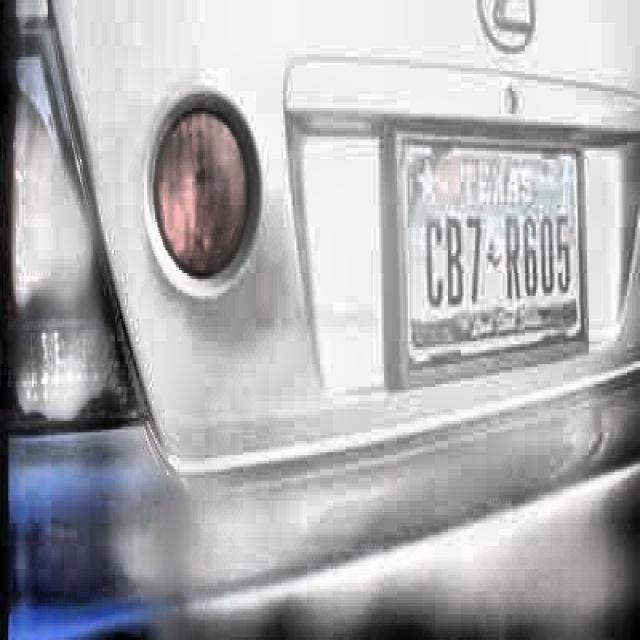license_plate: (394, 136, 580, 349)
